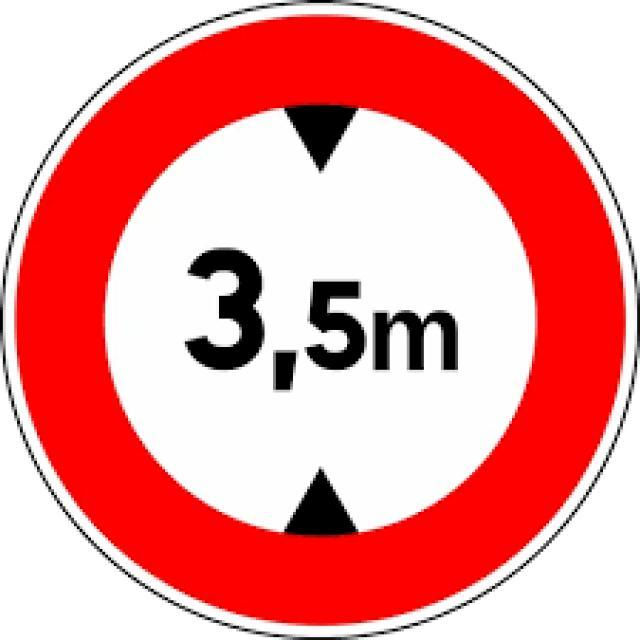height limit: (19, 19, 623, 618)
